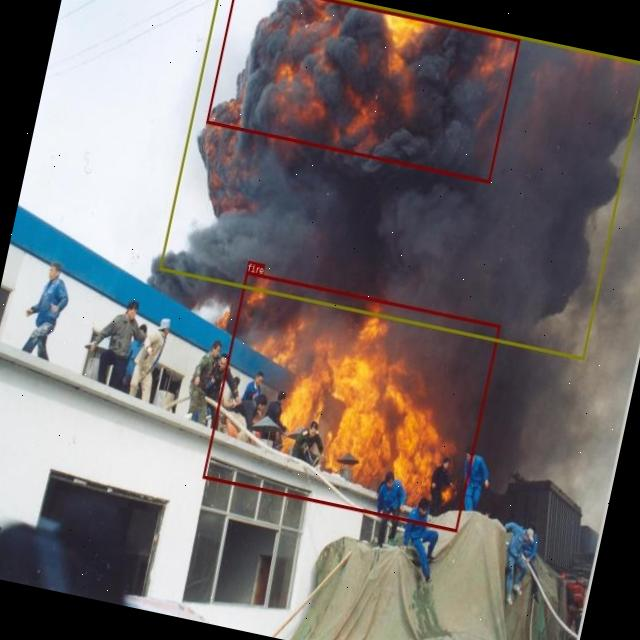fire: (202, 270, 500, 530), (205, 0, 518, 183)
smoke: (159, 0, 640, 360)
